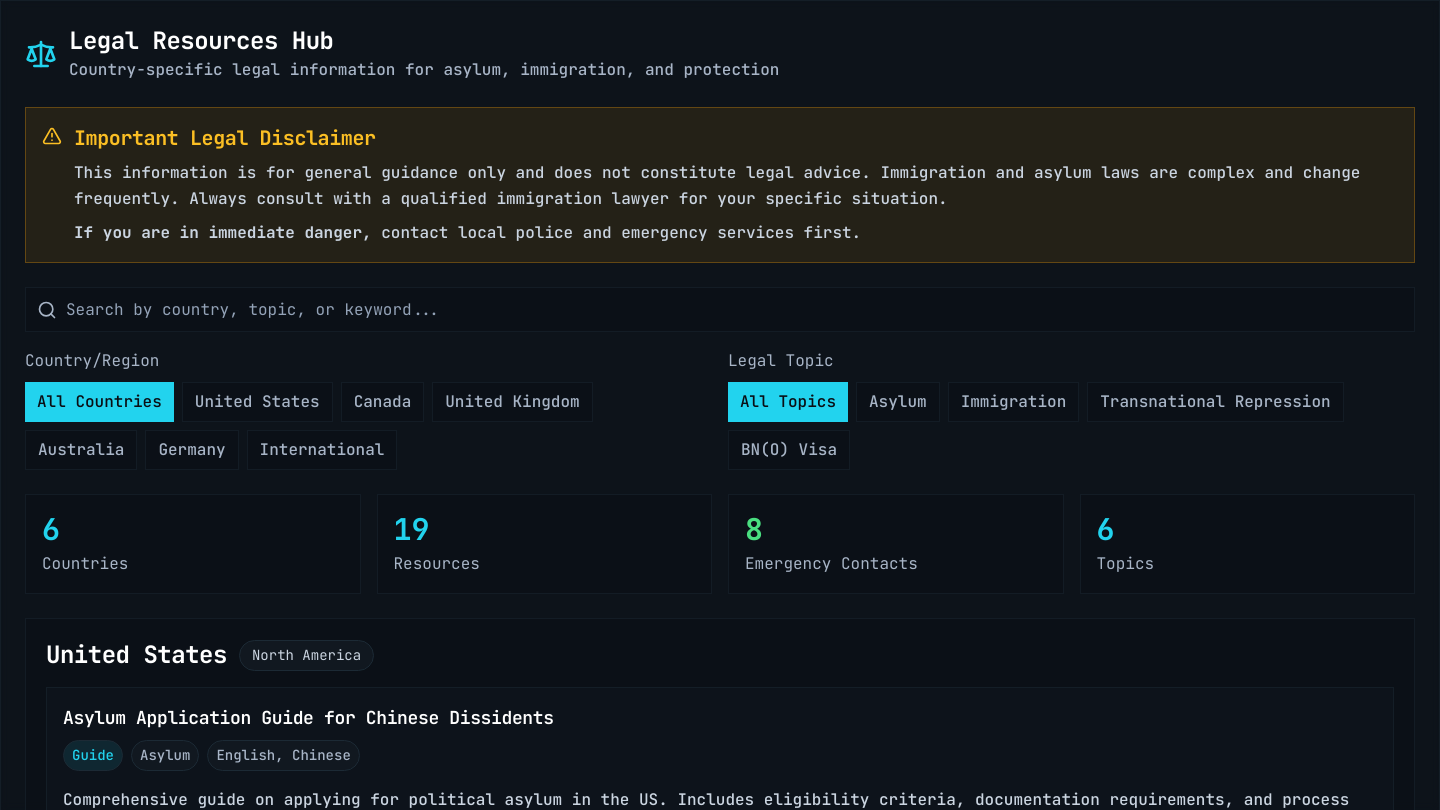
Test: LegalResourcesHub › filters resources by country when country button is clicked
Click the button "United Kingdom" at (512, 402), box left=432, top=382, right=593, bottom=422
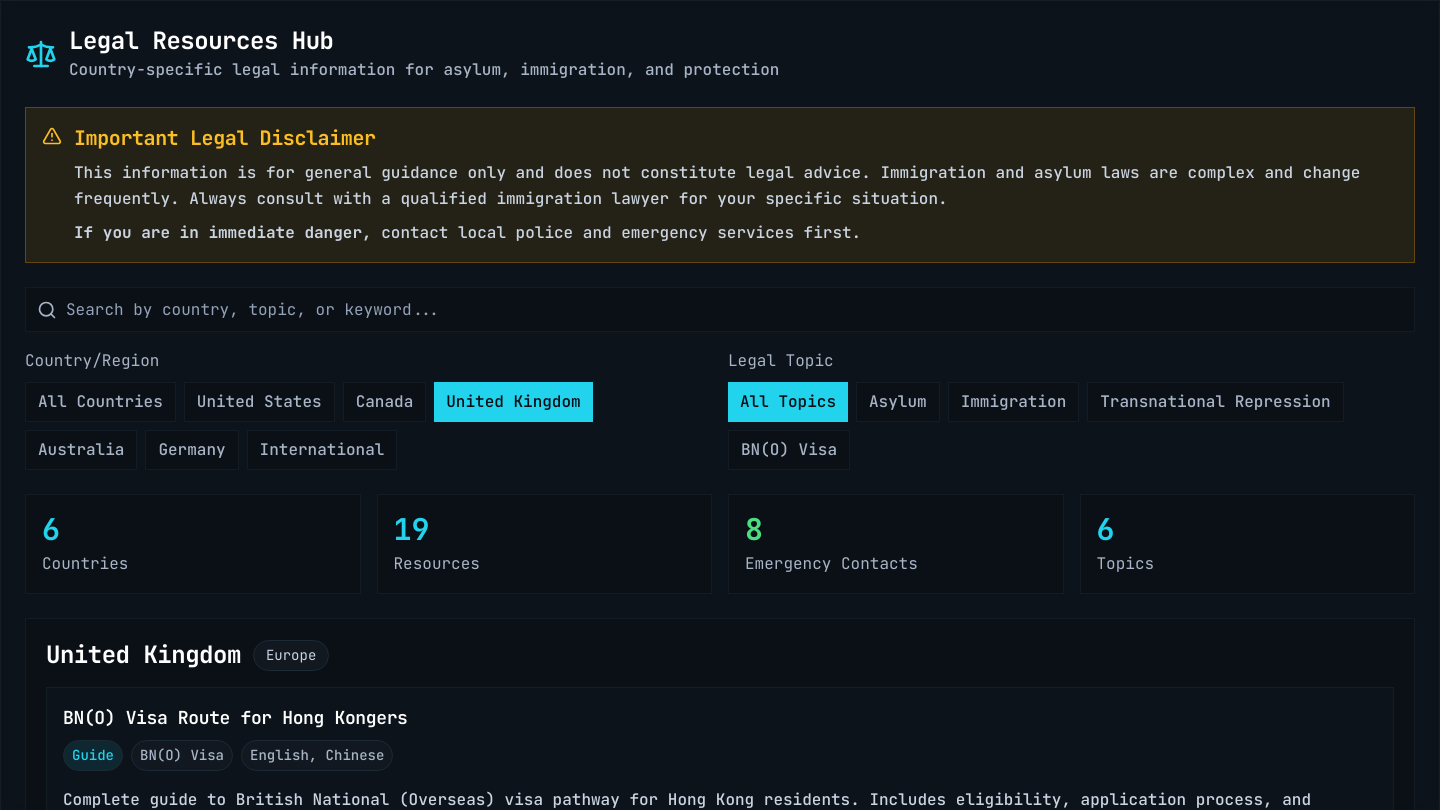
Check: the heading "BN(O) Visa Route for Hong Kongers" is shown, box left=63, top=704, right=408, bottom=732
Check: the heading "Asylum Application Guide for Chinese Dissidents" is gone
